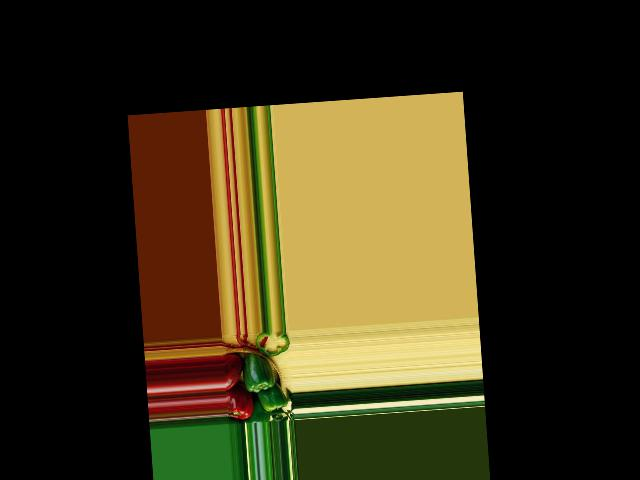bell_pepper: (223, 352, 242, 391)
